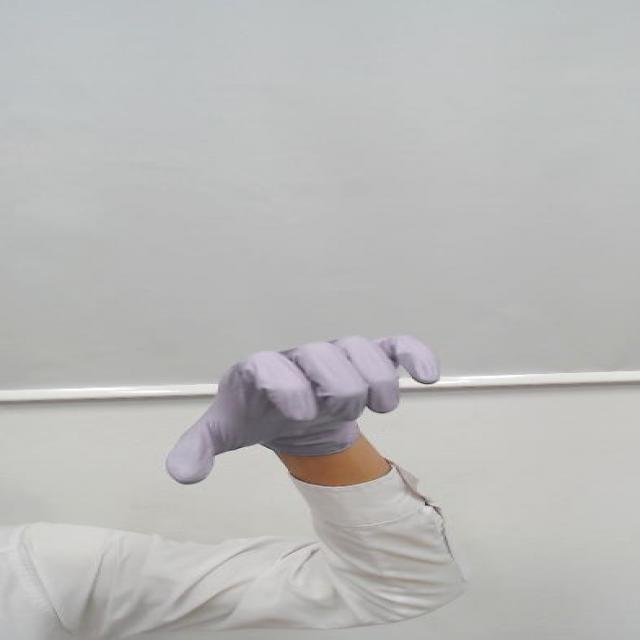with_gloves: (115, 328, 478, 494)
